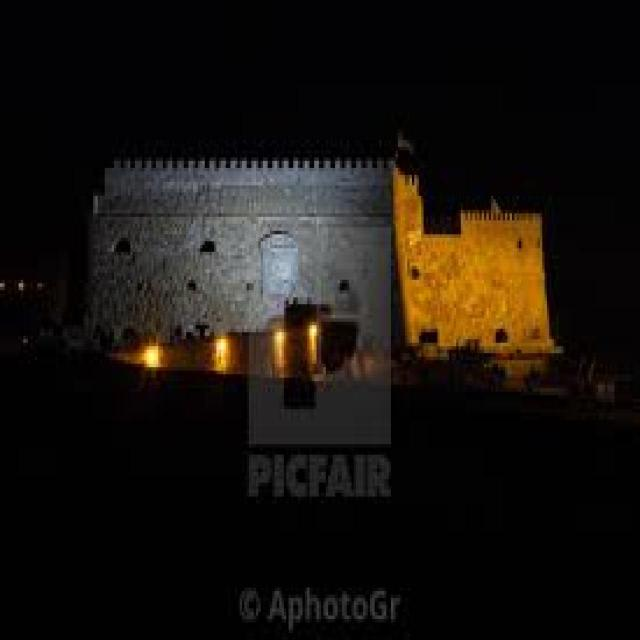Kules: (83, 135, 567, 374)
